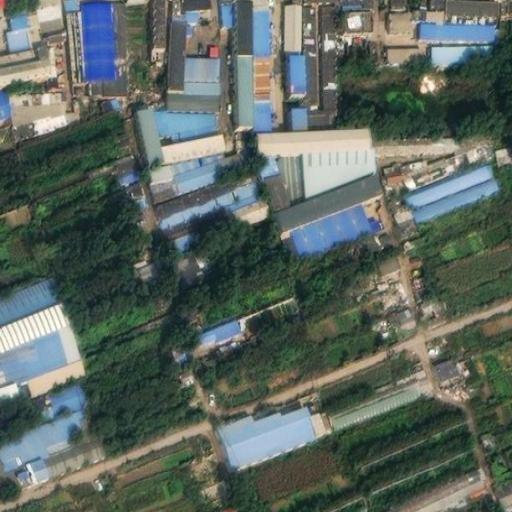building: (217, 397, 329, 460), (155, 165, 259, 225), (273, 168, 383, 223), (328, 380, 431, 434), (0, 403, 94, 462), (405, 158, 499, 215), (284, 194, 374, 253), (301, 143, 376, 193), (173, 144, 244, 191), (257, 123, 375, 147), (25, 349, 91, 391), (0, 41, 62, 85), (175, 310, 241, 348), (152, 102, 217, 140), (160, 125, 227, 157), (136, 98, 164, 163), (166, 13, 190, 86), (374, 126, 453, 148), (250, 47, 271, 127), (43, 375, 84, 414), (13, 85, 61, 117), (167, 247, 204, 288), (227, 188, 270, 223), (146, 156, 181, 199), (277, 146, 305, 199), (165, 214, 204, 251), (184, 49, 220, 88), (432, 37, 495, 59), (233, 48, 252, 120), (168, 144, 223, 168), (165, 84, 217, 107), (110, 150, 143, 185), (419, 17, 491, 33), (4, 6, 31, 46), (430, 352, 463, 383), (264, 162, 288, 204), (128, 257, 161, 287), (123, 177, 153, 210), (375, 250, 406, 276), (285, 50, 302, 89), (308, 105, 339, 125), (41, 26, 70, 45), (494, 477, 512, 507), (258, 146, 280, 170), (381, 157, 406, 178), (26, 451, 47, 476), (291, 100, 309, 126), (384, 42, 417, 56), (346, 5, 371, 23), (388, 6, 410, 25), (15, 464, 33, 481), (426, 3, 445, 18), (495, 142, 511, 159), (370, 212, 383, 226)
